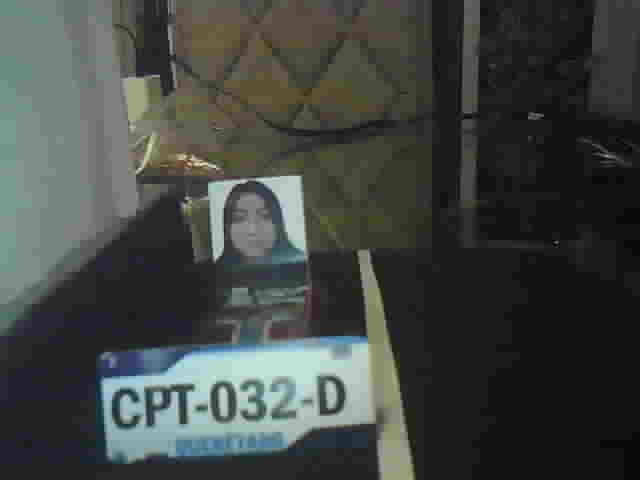PLACA: (94, 334, 377, 467)
ROSTRO: (214, 180, 309, 267)
